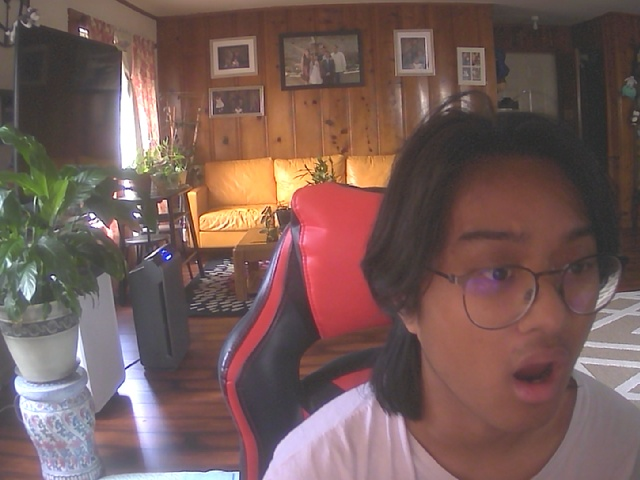fear: (385, 120, 626, 442)
